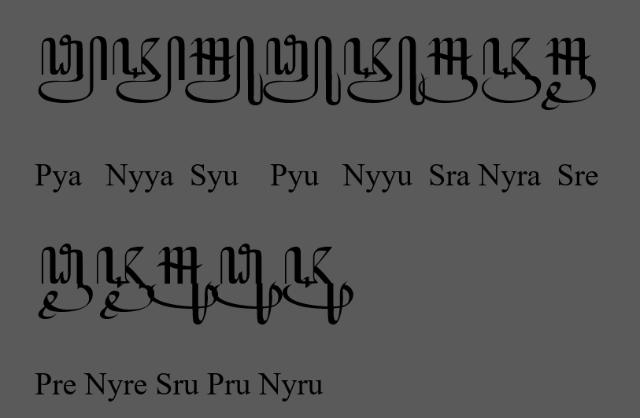Nyr: (482, 37, 542, 104)
Nyre: (96, 246, 154, 322)
Nyru: (282, 245, 354, 325)
Nyy: (112, 36, 186, 104)
Nyyu: (344, 35, 426, 107)
Pre: (37, 244, 93, 320)
Pru: (213, 243, 283, 326)
Py: (38, 34, 108, 104)
Pyu: (264, 34, 342, 107)
Sr: (419, 36, 479, 104)
Sre: (542, 37, 596, 112)
Sru: (148, 246, 218, 326)
Syu: (185, 36, 263, 107)
